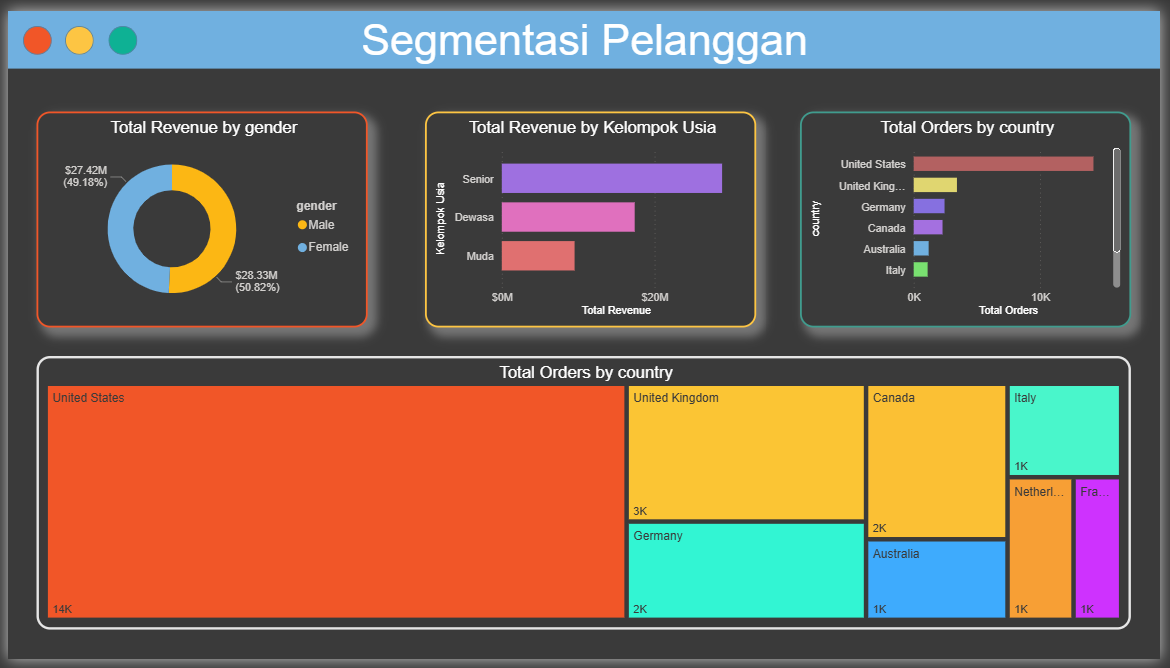

What the dashboard file says about the page in this screenshot:
{"tool":"powerbi","page":{"name":"Segmentasi Pelanggan","canvas":[1280,720],"ordinal":3},"visuals":[{"type":"shape","box":[0,0,1280,64],"z":0},{"type":"shape","box":[16,16,32,32],"z":1},{"type":"shape","box":[64,16,32,32],"z":2},{"type":"shape","box":[112,16,32,32],"z":3},{"type":"textbox","box":[16,0,1248,80],"z":4},{"type":"donutChart","fields":{"Category":["retail_db customers.gender"],"Y":["retail_db sales.Total Revenue"]},"box":[32,112,368,240],"z":5},{"type":"barChart","fields":{"Category":["retail_db customers.Kelompok Usia"],"Y":["retail_db sales.Total Revenue"]},"box":[464,112,368,240],"z":6},{"type":"barChart","fields":{"Category":["retail_db customers.country"],"Y":["retail_db sales.Total Orders"]},"box":[880,112,368,240],"z":7},{"type":"treemap","fields":{"Group":["retail_db customers.country"],"Values":["retail_db sales.Total Orders"]},"box":[32,384,1216,304],"z":8}]}

Visuals, with their boxes on the page's 1280x720 design canvas (x1, y1, x2, y2). These are canvas units, not pixel positions in the 1170x668 screenshot, which may show the page scaled, cropped or inside an application window:
shape: (0,0,1280,64)
shape: (16,16,48,48)
shape: (64,16,96,48)
shape: (112,16,144,48)
textbox: (16,0,1264,80)
donutChart - retail_db customers.gender x retail_db sales.Total Revenue: (32,112,400,352)
barChart - retail_db customers.Kelompok Usia x retail_db sales.Total Revenue: (464,112,832,352)
barChart - retail_db customers.country x retail_db sales.Total Orders: (880,112,1248,352)
treemap - retail_db customers.country x retail_db sales.Total Orders: (32,384,1248,688)
